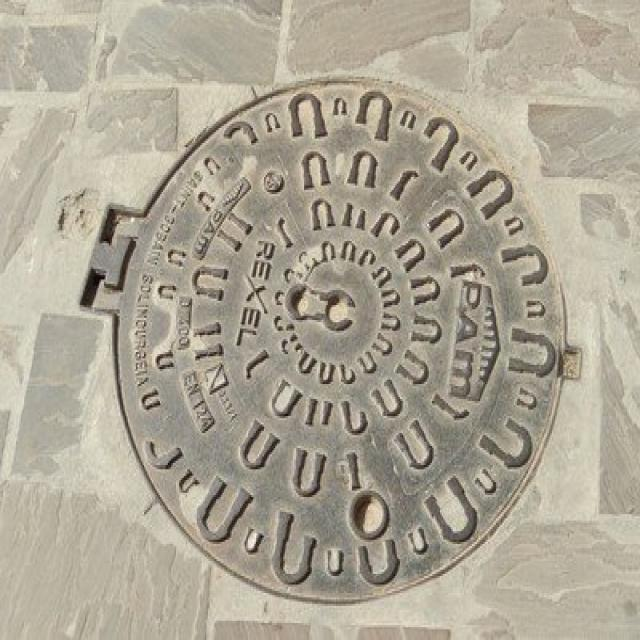manhole: (88, 78, 568, 608)
